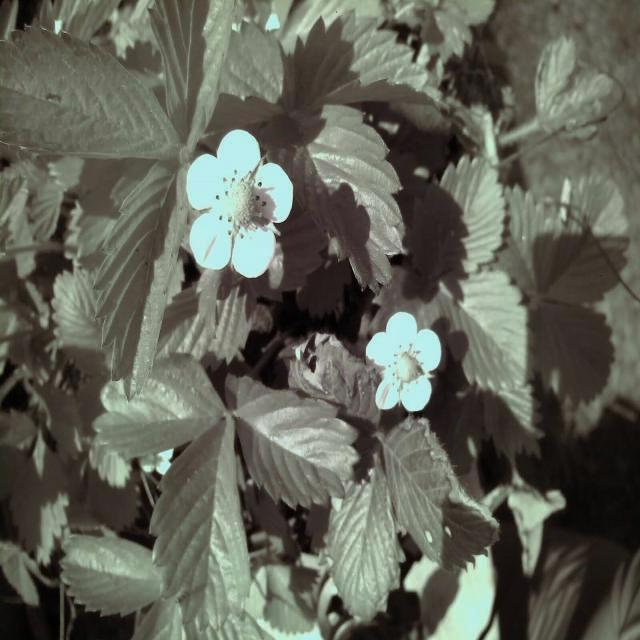flower: (179, 120, 297, 280), (363, 305, 442, 412)
